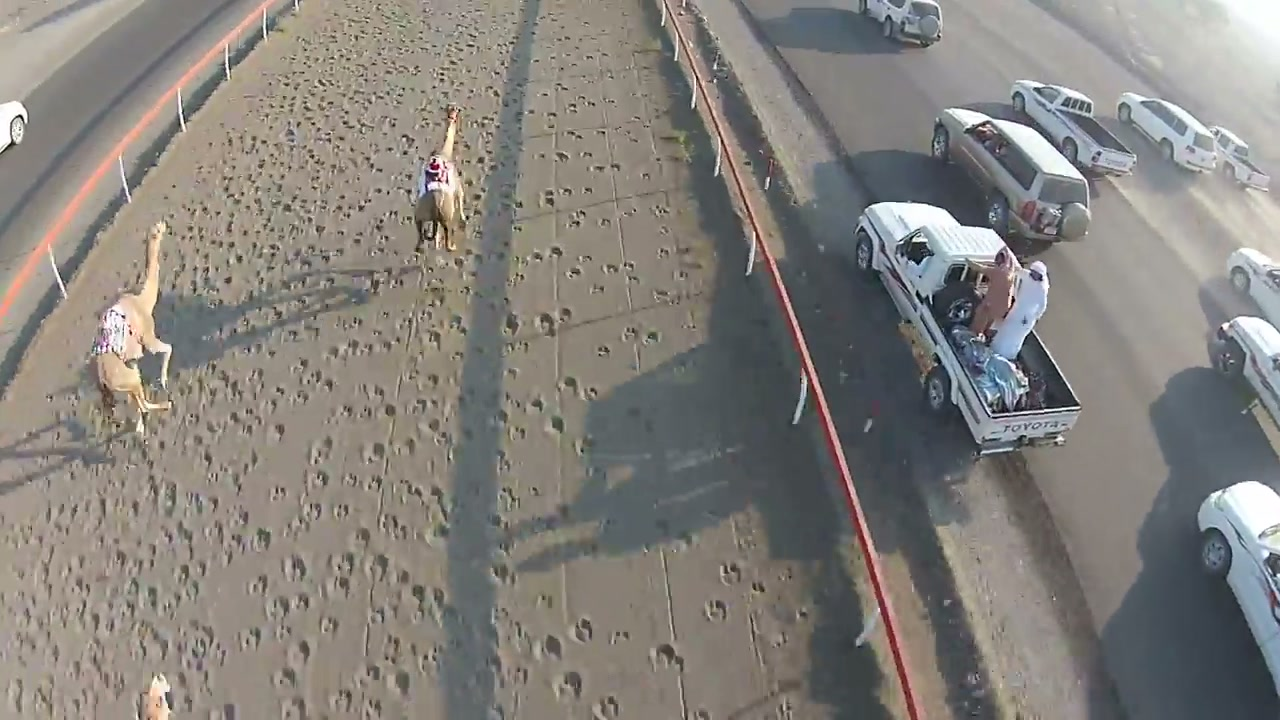animal_footprint: (77, 76, 644, 711), (453, 66, 779, 631)
